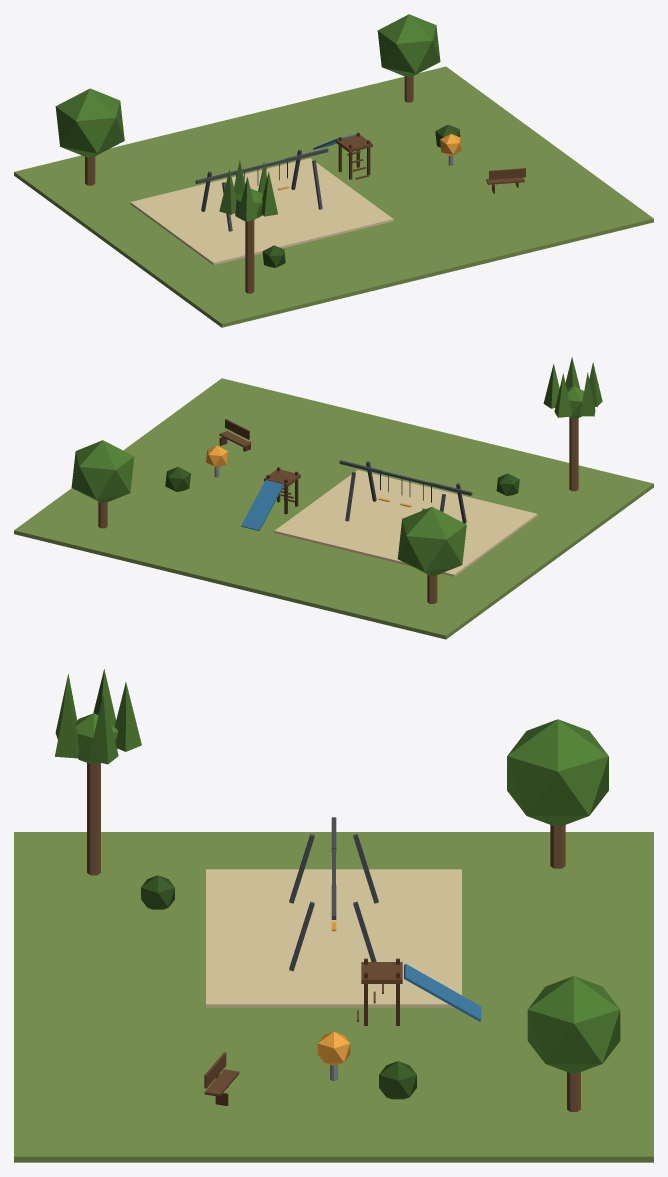
File: landscape.park-child.glb
3 views of the same model, one above another, from view 1: azimuth 30°, elevation 25°; view 2: azimuth 150°, elevation 25°; view 3: azimuth 270°, elevation 25° (orthographic). The views are drawn at different scales.
Parts seen in each view (by area): view 1: landscape.park-child; view 2: landscape.park-child; view 3: landscape.park-child.
Part boxes in pixels (bbox=[...]): landscape.park-child: bbox=[14, 14, 653, 327]; landscape.park-child: bbox=[14, 357, 653, 639]; landscape.park-child: bbox=[14, 669, 653, 1162].
Size of the model in its own units: 24 by 6.8 by 20.
